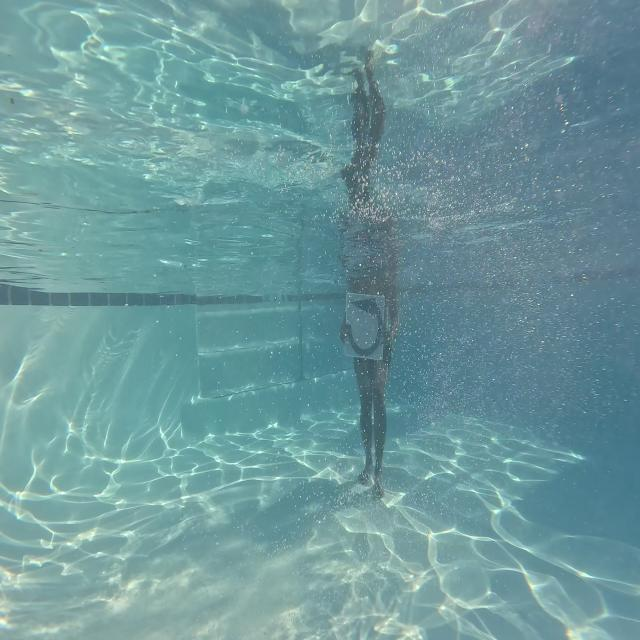blue_side: (346, 288, 388, 362)
